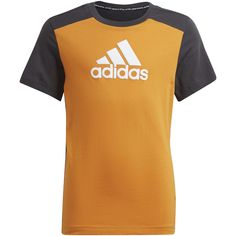adidas Originale: (87, 35, 154, 86)
